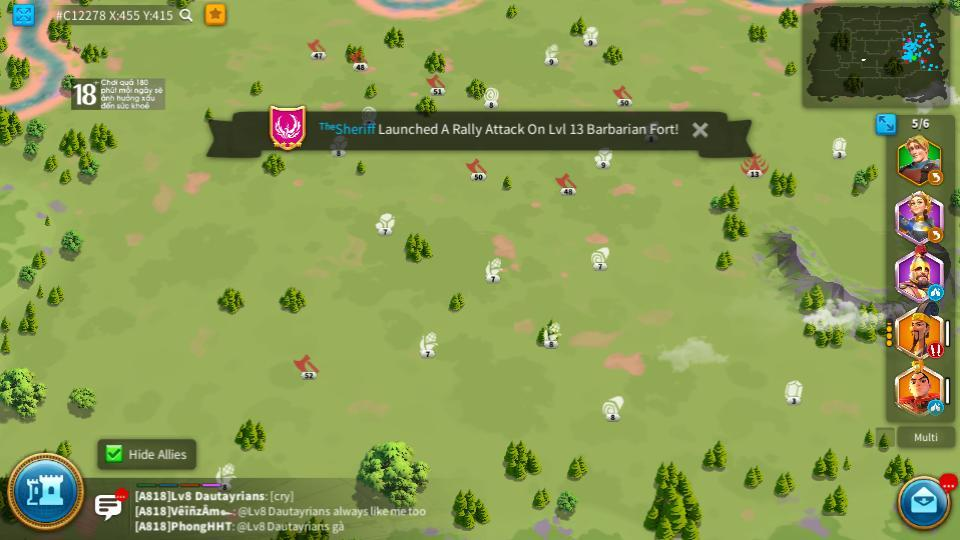gem-z-out: (782, 380, 805, 402), (831, 136, 848, 156)
march_attacking: (928, 347, 942, 358)
march_idle: (927, 401, 945, 415), (929, 286, 942, 297)
march_returning: (929, 172, 943, 185), (929, 230, 942, 242)
